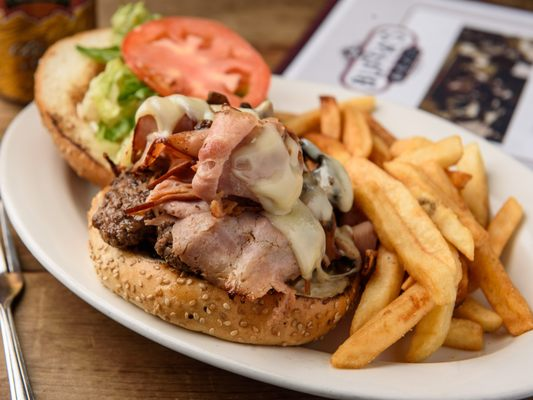soup: (88, 95, 365, 347), (33, 5, 272, 188), (0, 0, 94, 105)
